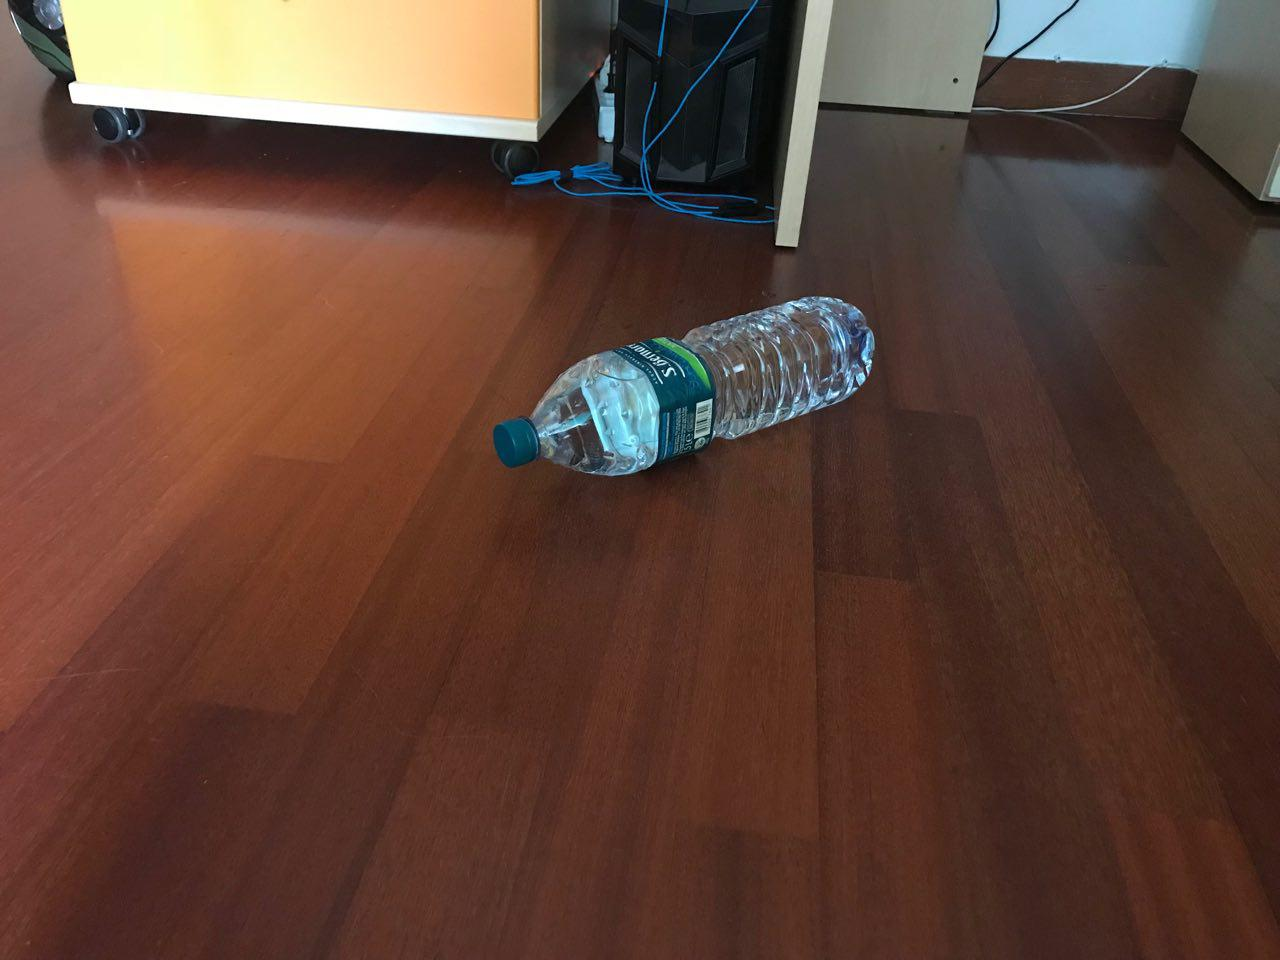san_bernardo: (490, 294, 877, 480)
